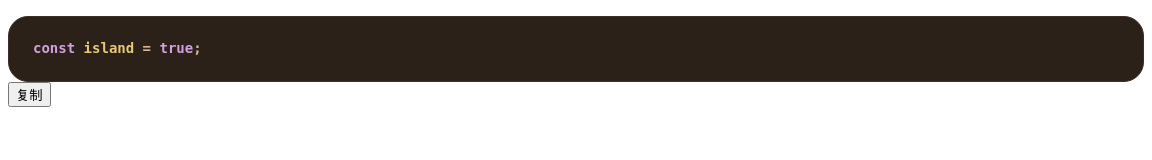
Scenario: CodeBlock › 默认可复制代码并显示成功反馈
Click the button with aria-label "复制代码" at point(29, 94), box left=8, top=82, right=51, bottom=107
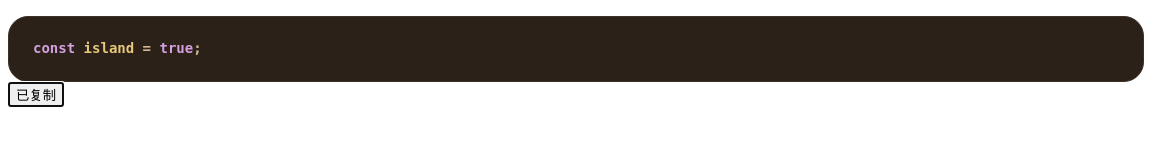
Check: the button with aria-label "代码已复制" reads "已复制", box left=8, top=82, right=64, bottom=107
